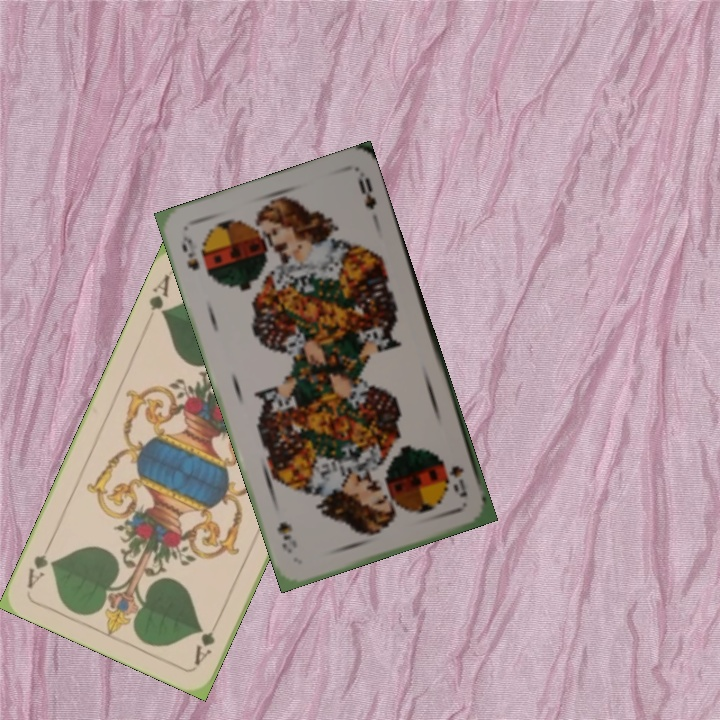GA: (189, 613, 221, 668), (145, 271, 172, 321)
SO: (177, 232, 202, 273), (445, 461, 470, 500)
